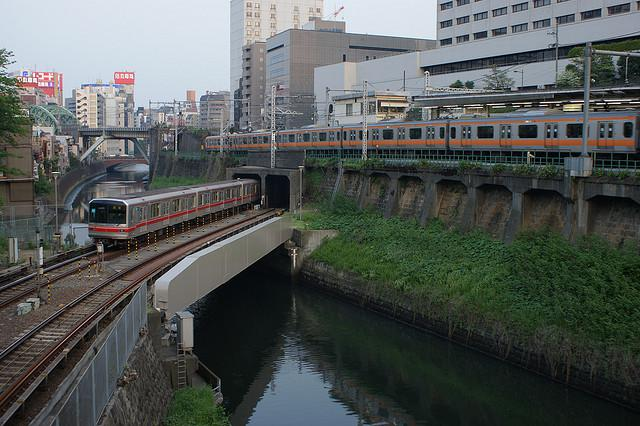Train: (195, 106, 640, 170), (87, 178, 260, 250)
